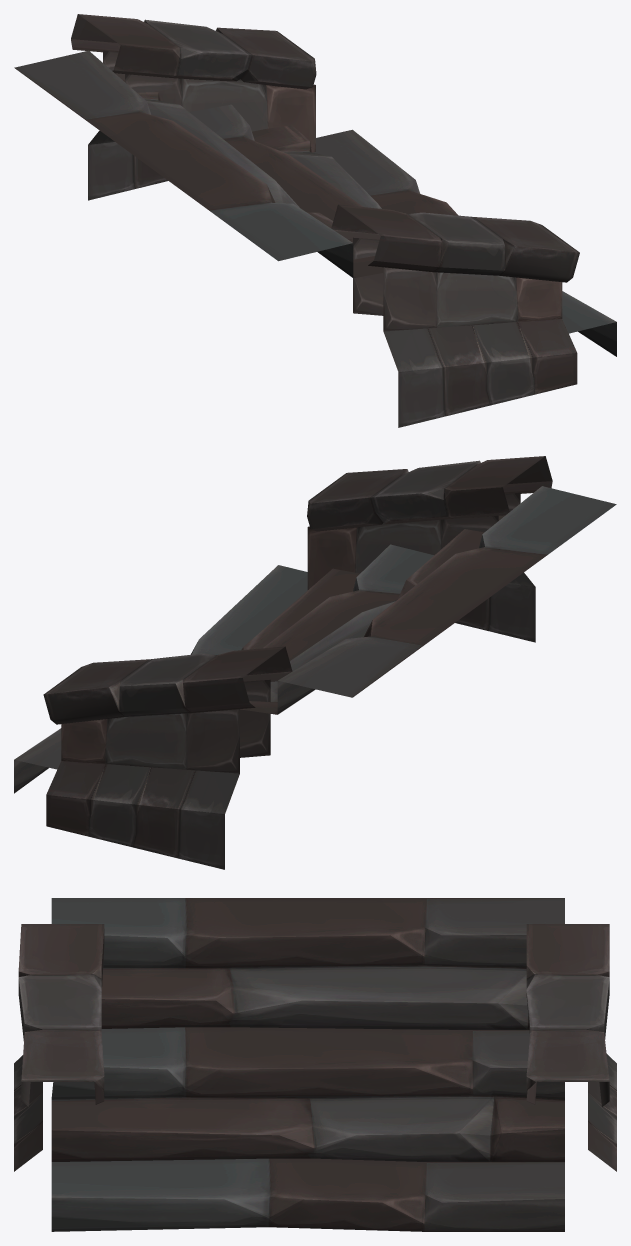
The model's file is A_CA_GEN_Stairs_01.fbx.
3 renders of one model, top to bottom at view 1: azimuth 30°, elevation 25°; view 2: azimuth 150°, elevation 25°; view 3: azimuth 270°, elevation 25°, orthographic. The views are drawn at different scales.
Parts seen in each view (by area): view 1: A_CA_GEN_Stairs_01; view 2: A_CA_GEN_Stairs_01; view 3: A_CA_GEN_Stairs_01.
Boxes of the visible parts, x1,y1,x2,y2 form: A_CA_GEN_Stairs_01: (14, 14, 616, 427); A_CA_GEN_Stairs_01: (14, 456, 616, 869); A_CA_GEN_Stairs_01: (14, 898, 616, 1231).
Bounding box in the file's own units: 461 × 253 × 732.
1 material, 1 textured.
